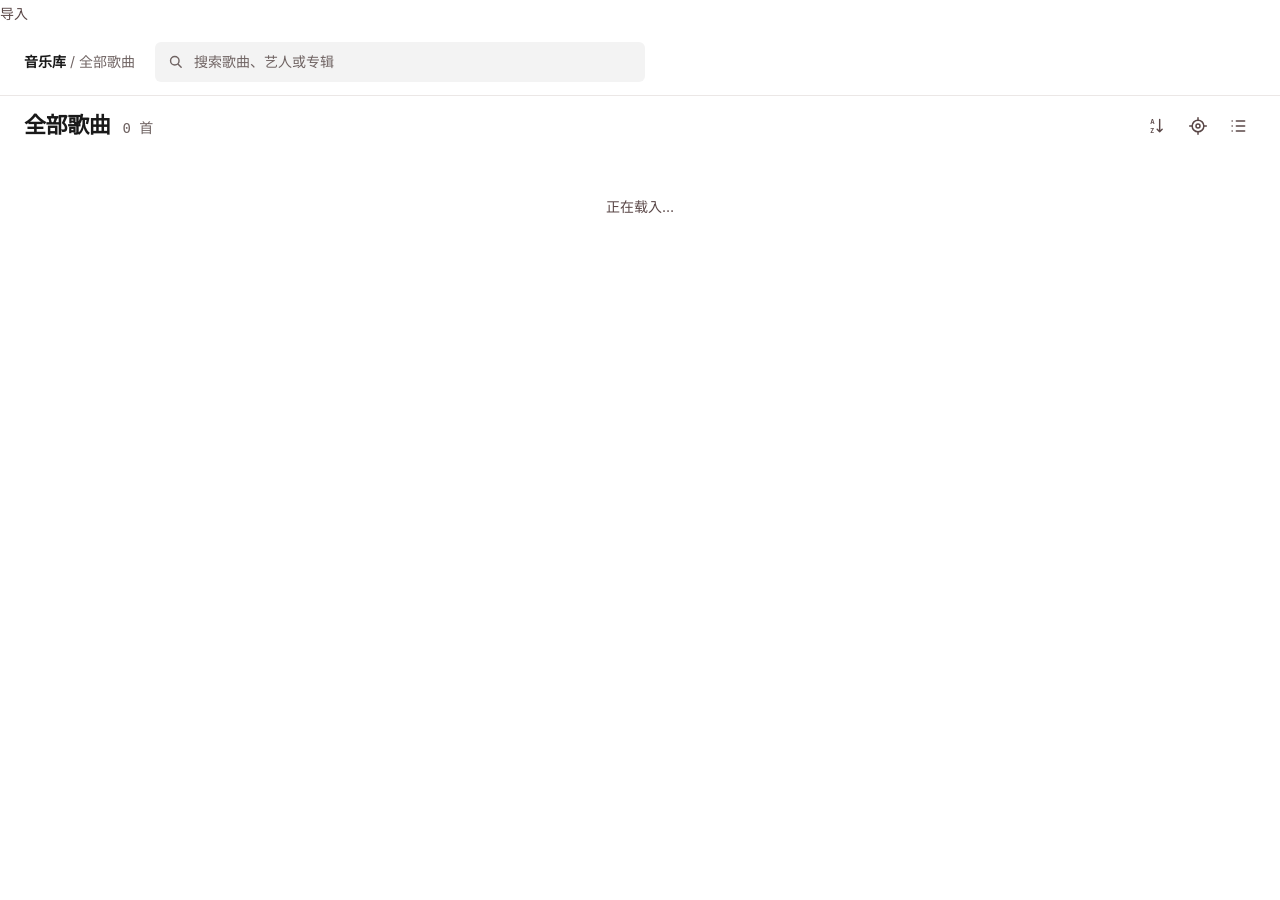
Test: 导入完成后的音乐库刷新（壳层入口） › retains a saved result when recovery fails
Click the button with test id "titlebar-import" at (14, 14), box [0,0,28,28]
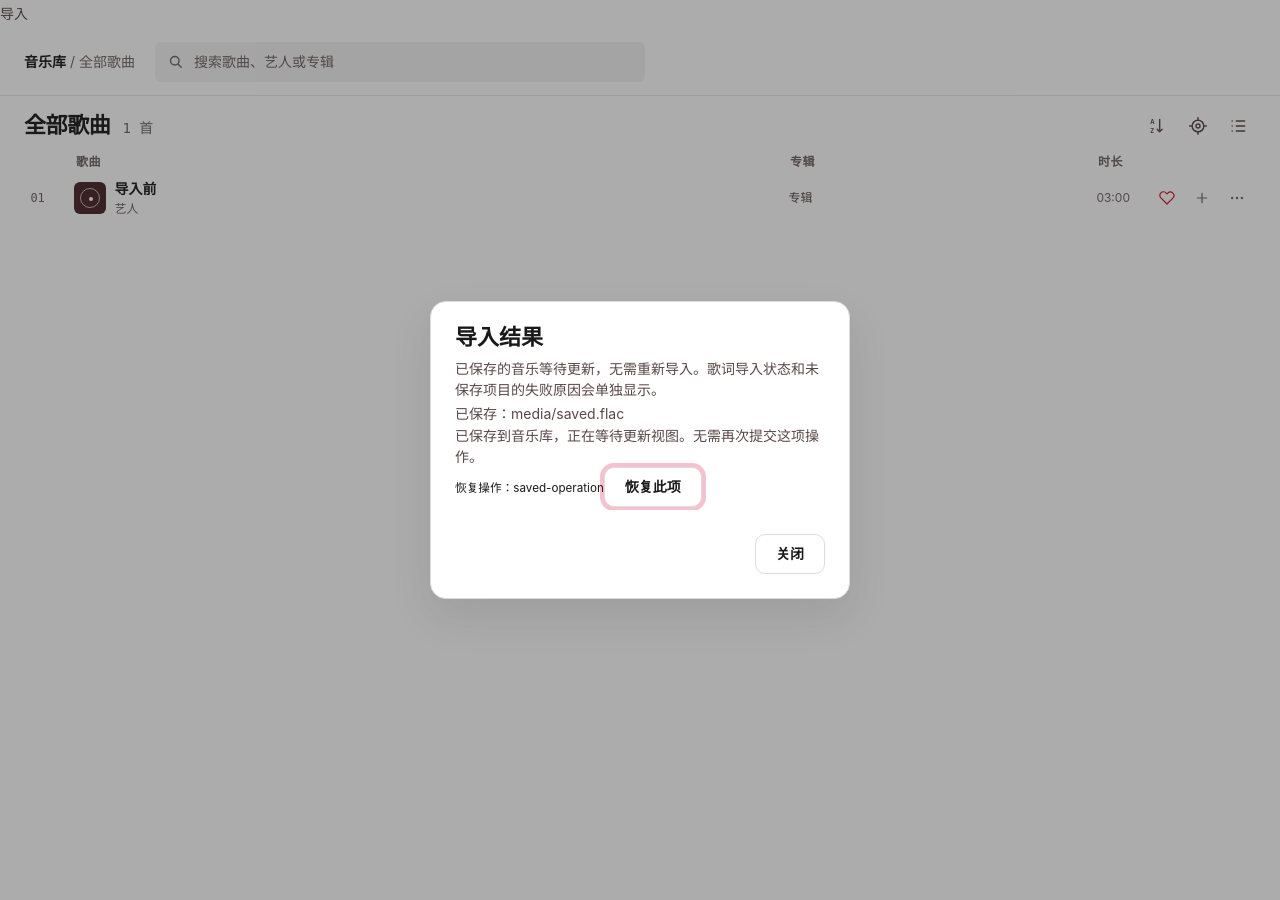
Click the button "恢复此项" at (653, 487), box [604,467,702,507]
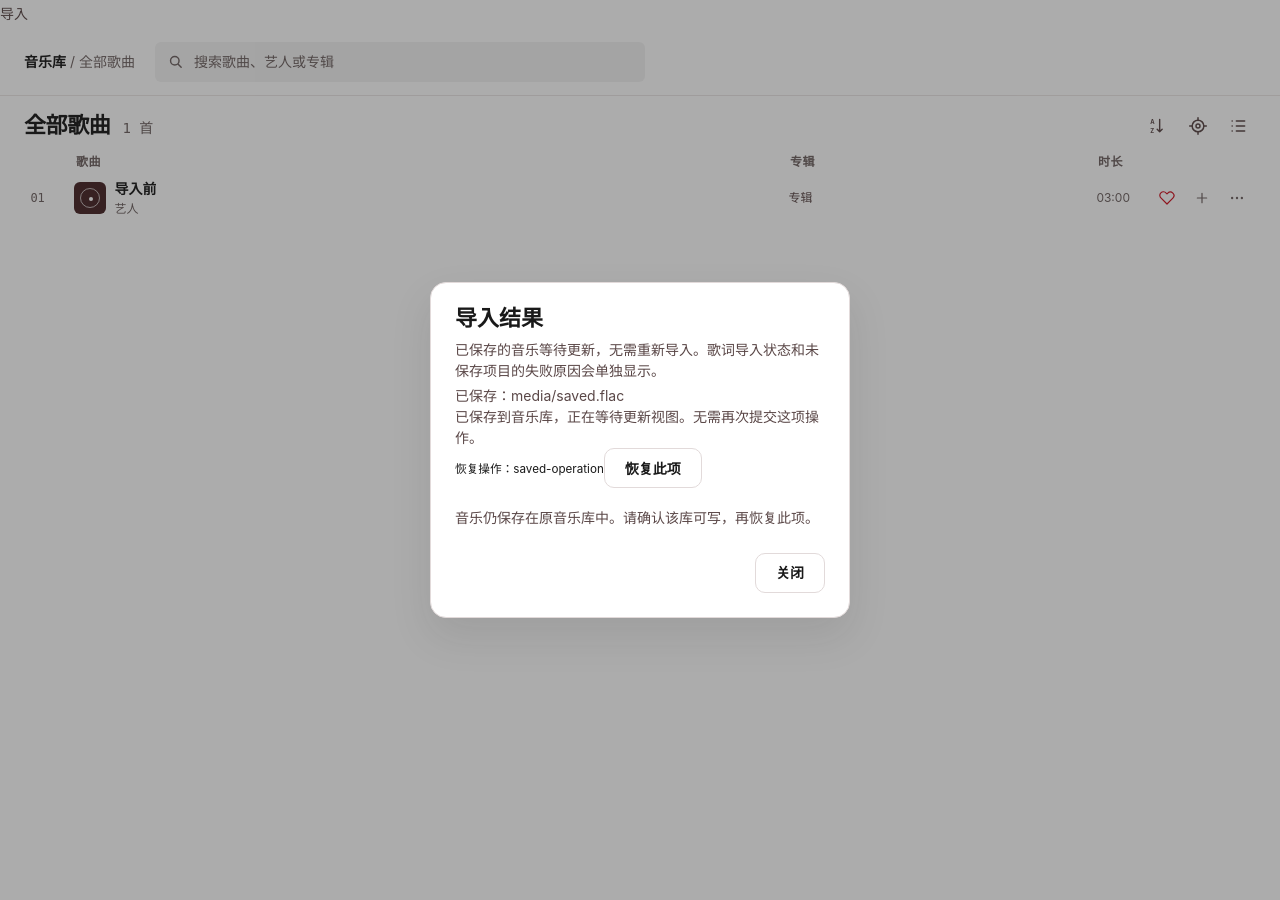
Result: the text "恢复操作：saved-operation" is shown at [455,463,604,477]
Result: the button "恢复此项" is enabled at [604,448,702,488]
Result: the message shows "仍保存在原音乐库中" at [455,509,819,526]
